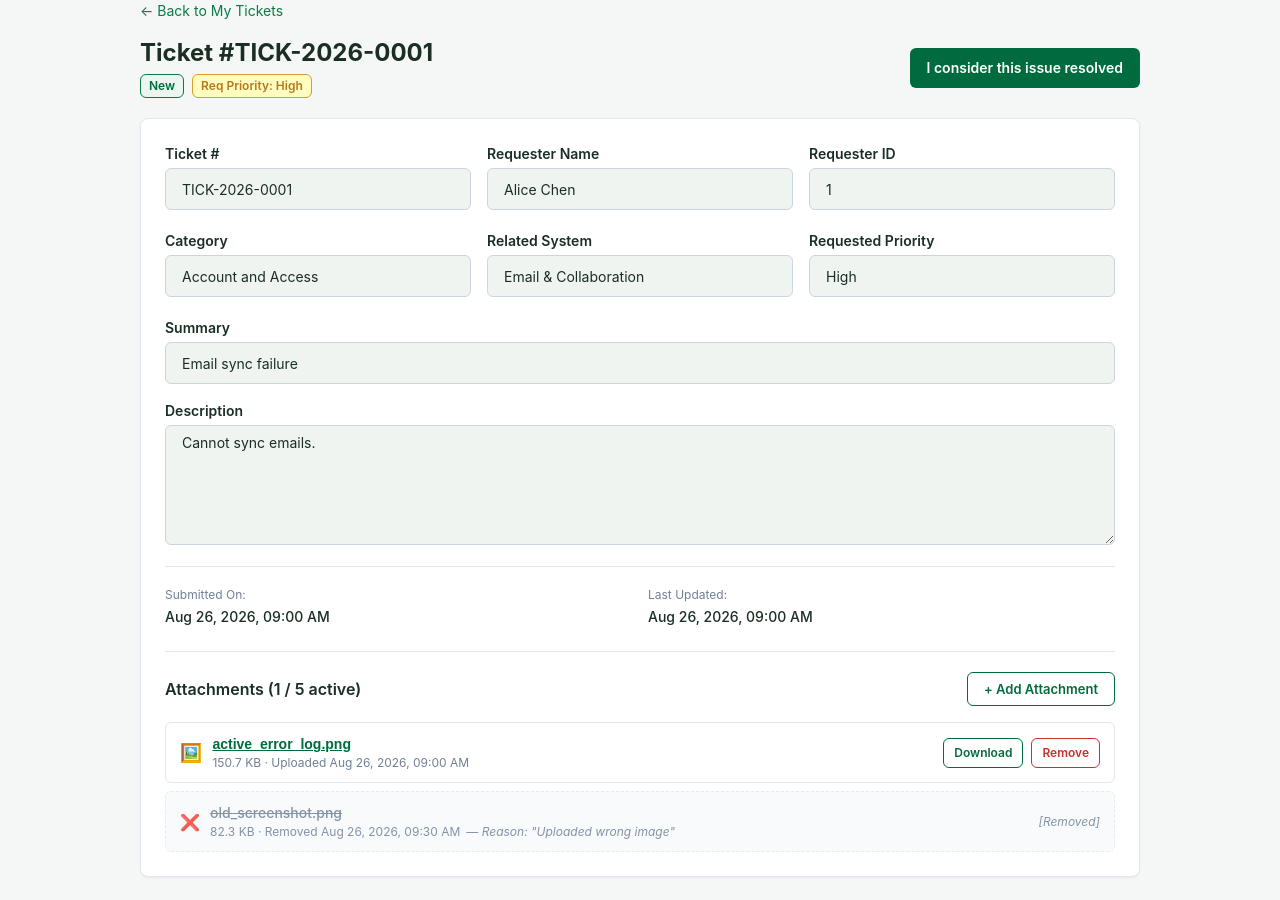
it: Lab 02 Feature 10 — Attachment Section & Previews › opens Preview Modal when clicking active attachment filename metadata
The width and height of the screenshot is (1280, 900).
Click the button "active_error_log.png" at (282, 744), box [212,736,351,752]
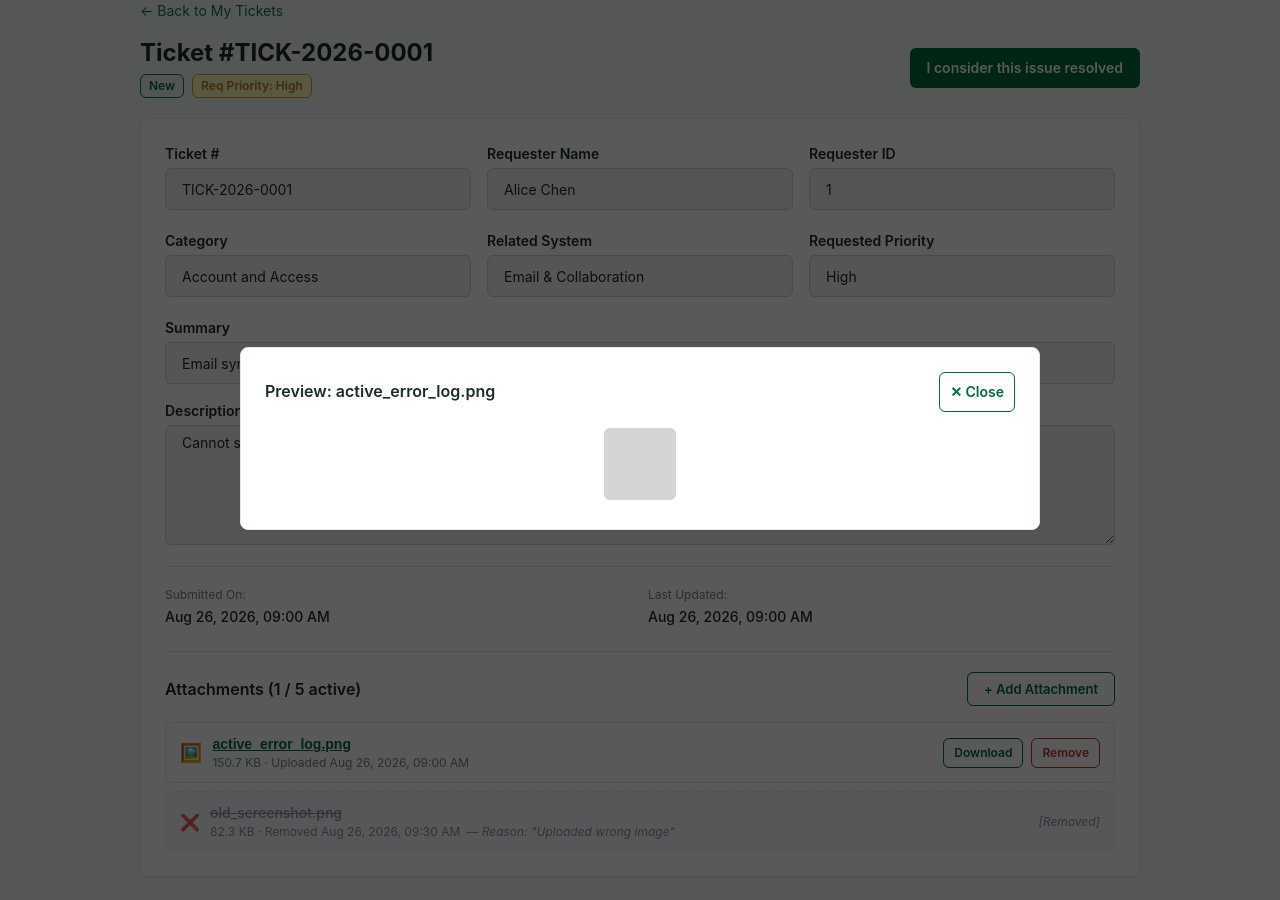
expect the heading "Preview: active_error_log.png" is shown: met, box [265,380,495,403]
